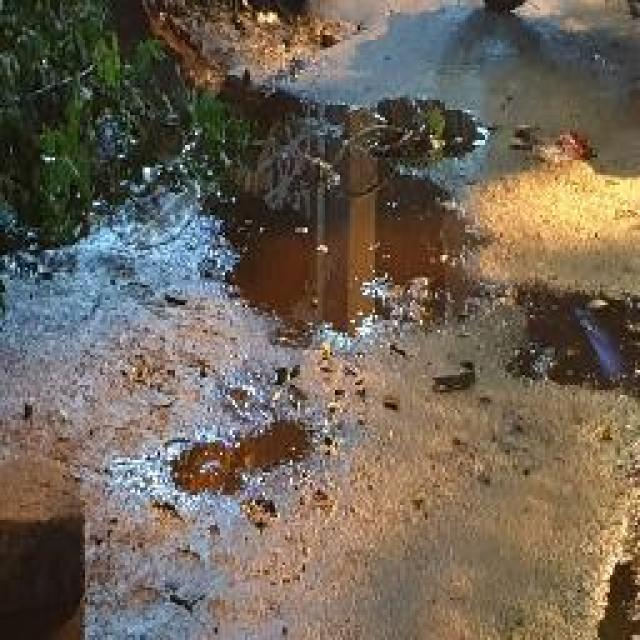puddle: (209, 86, 481, 350), (517, 282, 640, 398), (163, 415, 325, 502)
